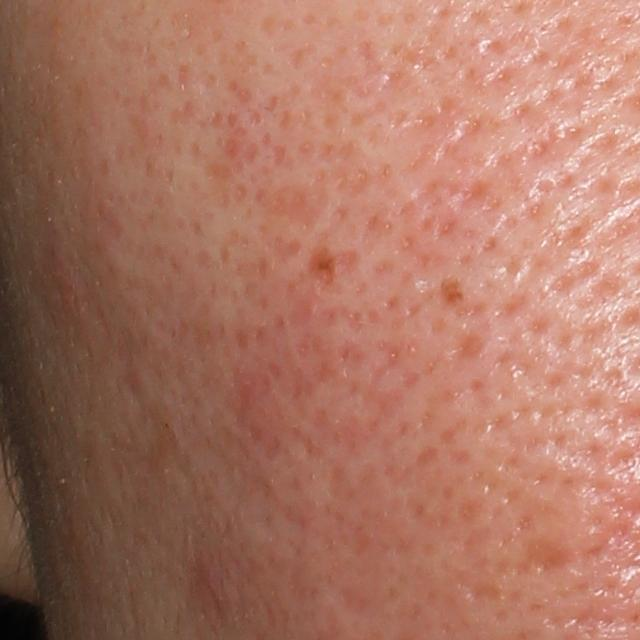atrophic_scar: (270, 184, 333, 231), (452, 331, 485, 365)
